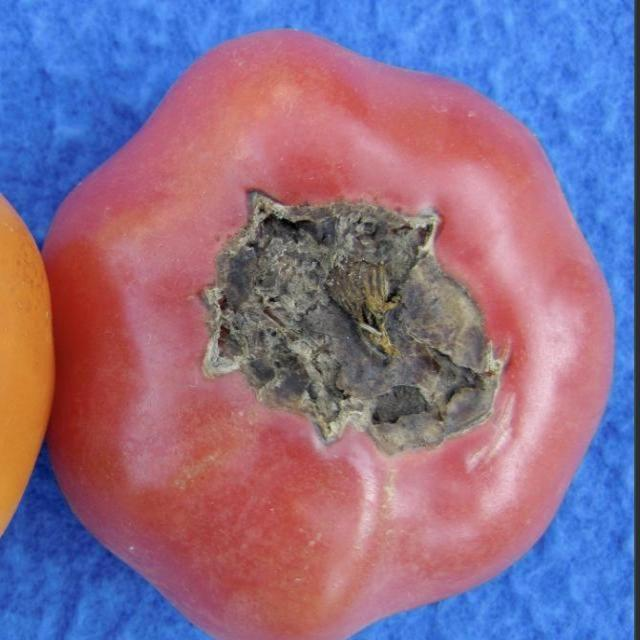Blossom End Rot Fruit: (123, 123, 336, 303)
